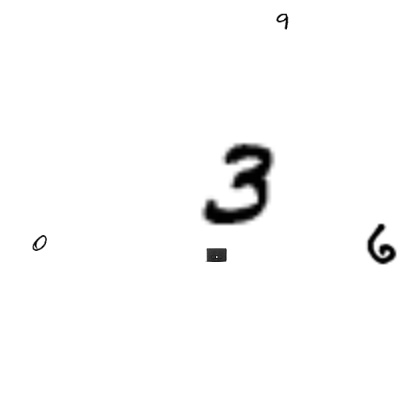0: (28, 232, 50, 254)
3: (186, 128, 298, 240)
6: (352, 218, 408, 274)
9: (272, 9, 294, 31)
Bag: (205, 244, 227, 266)
